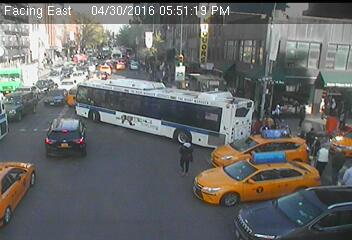neg: (227, 117, 265, 168), (52, 144, 85, 187), (48, 100, 73, 133), (84, 51, 107, 82), (143, 97, 166, 127), (209, 62, 230, 90), (252, 71, 271, 96), (39, 44, 58, 68), (267, 171, 285, 195), (168, 66, 183, 87), (109, 90, 123, 109)
pos: (172, 137, 204, 179), (311, 140, 336, 173), (296, 100, 314, 124), (304, 125, 320, 147)
